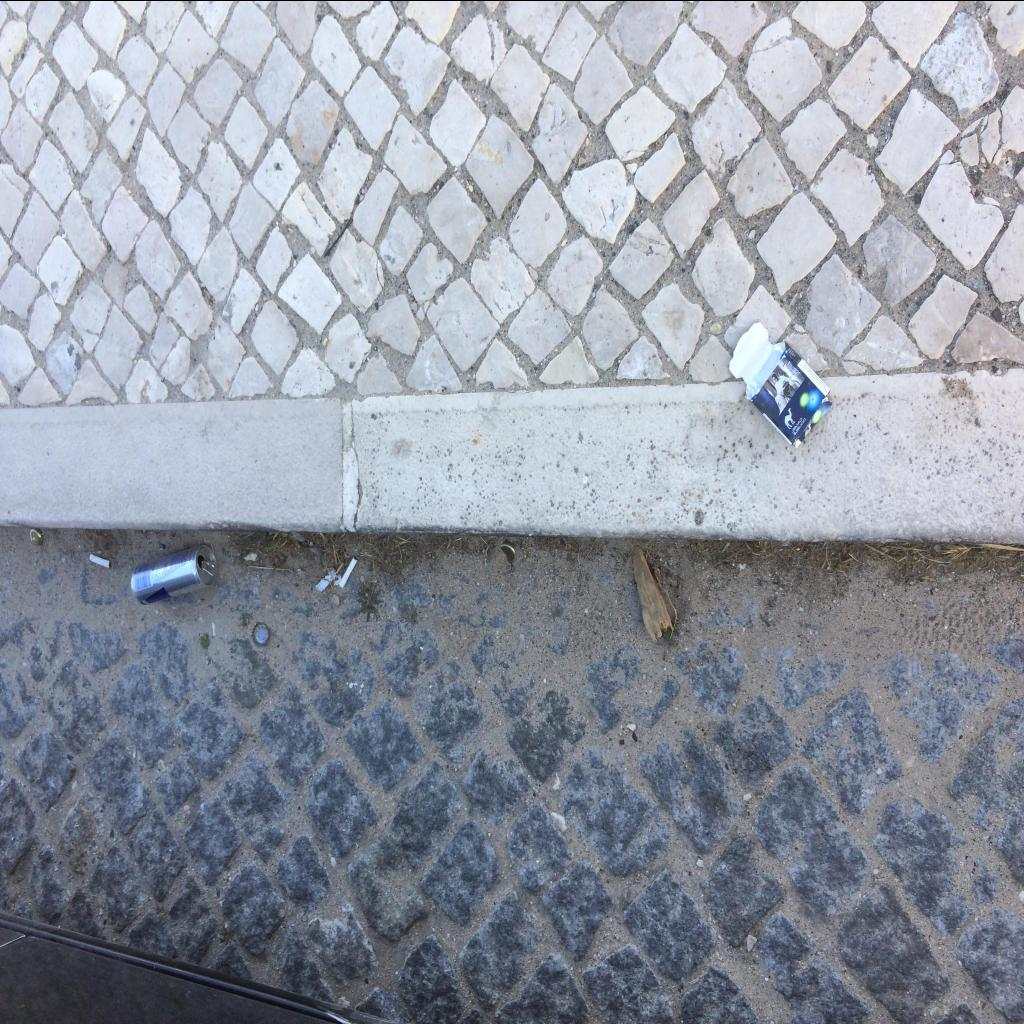Cigarette: (338, 556, 358, 588), (89, 552, 111, 568)
Drink can: (132, 542, 219, 604)
Metal bottle cap: (252, 620, 269, 644), (500, 540, 516, 564), (29, 526, 43, 544)
Other carton: (730, 321, 832, 447)
Pop tab: (200, 559, 216, 575)
